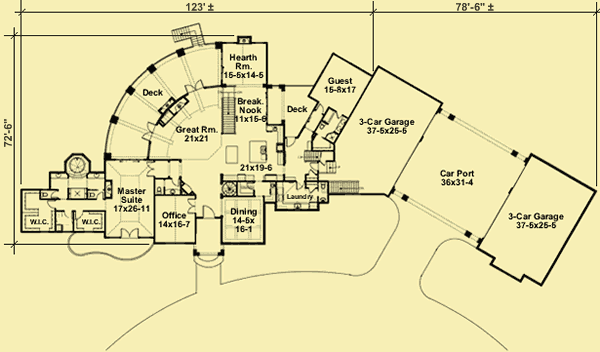door: (139, 121, 156, 143), (185, 78, 204, 93), (119, 227, 141, 239), (201, 204, 218, 219), (185, 195, 196, 215), (145, 160, 155, 178), (285, 134, 295, 147)
large_sink: (86, 189, 95, 198), (41, 190, 49, 198), (319, 182, 328, 189), (155, 185, 161, 193)
stairs: (173, 22, 205, 46), (220, 95, 238, 134), (328, 179, 364, 194)
